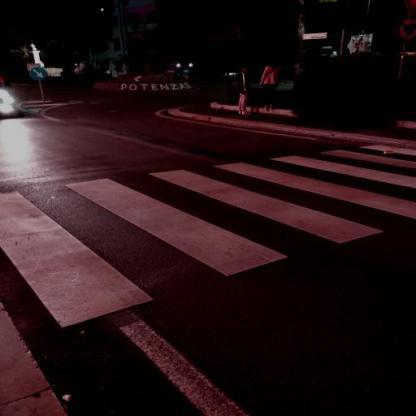crosswalk: (58, 166, 390, 282)
